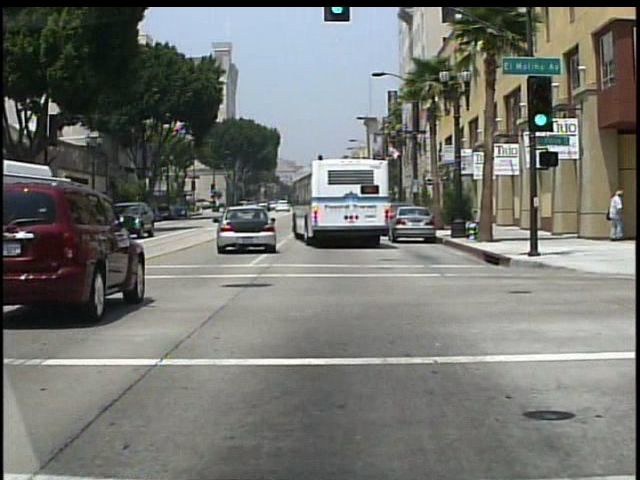person: (605, 190, 629, 243)
